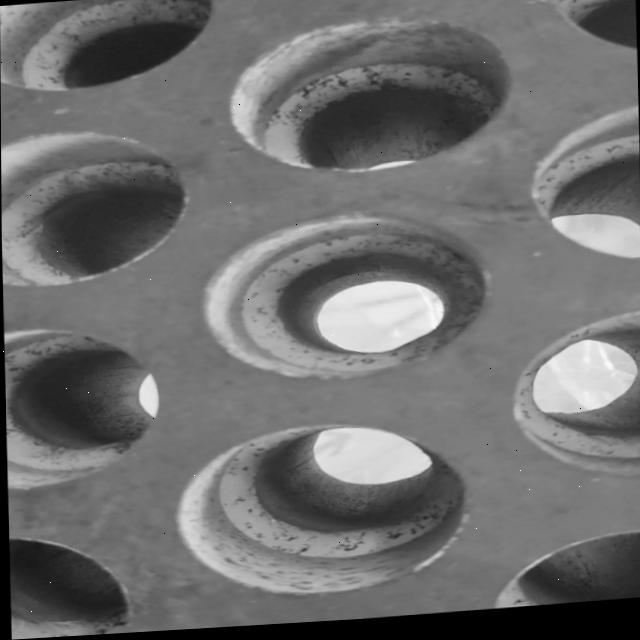Hole: (171, 418, 471, 607), (198, 210, 494, 392), (225, 14, 513, 185), (1, 124, 192, 290), (2, 322, 163, 490), (508, 320, 640, 490), (0, 0, 217, 96), (526, 109, 640, 278), (6, 528, 129, 640), (485, 537, 640, 615), (549, 0, 637, 72)
